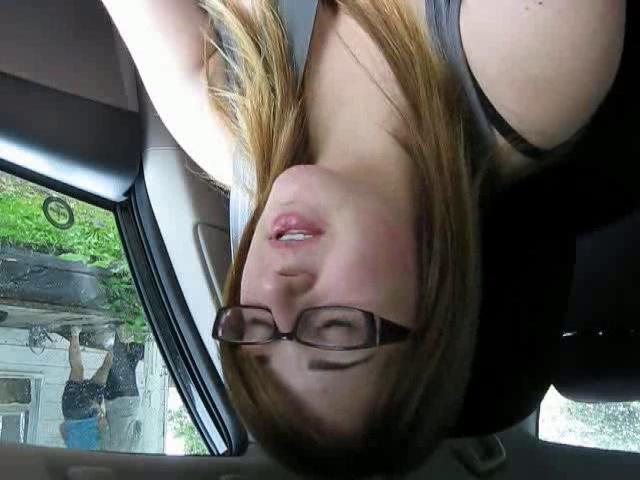eye_closed: (307, 308, 367, 343), (236, 306, 278, 340)
face: (234, 162, 423, 390)
